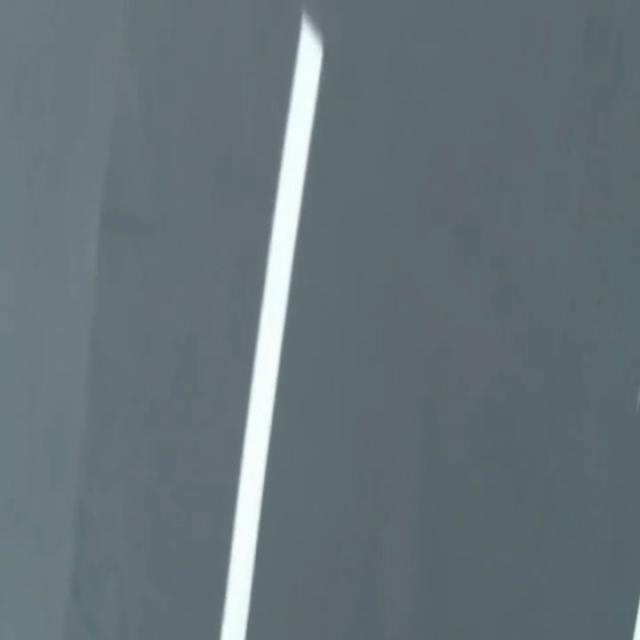center: (220, 13, 323, 639)
